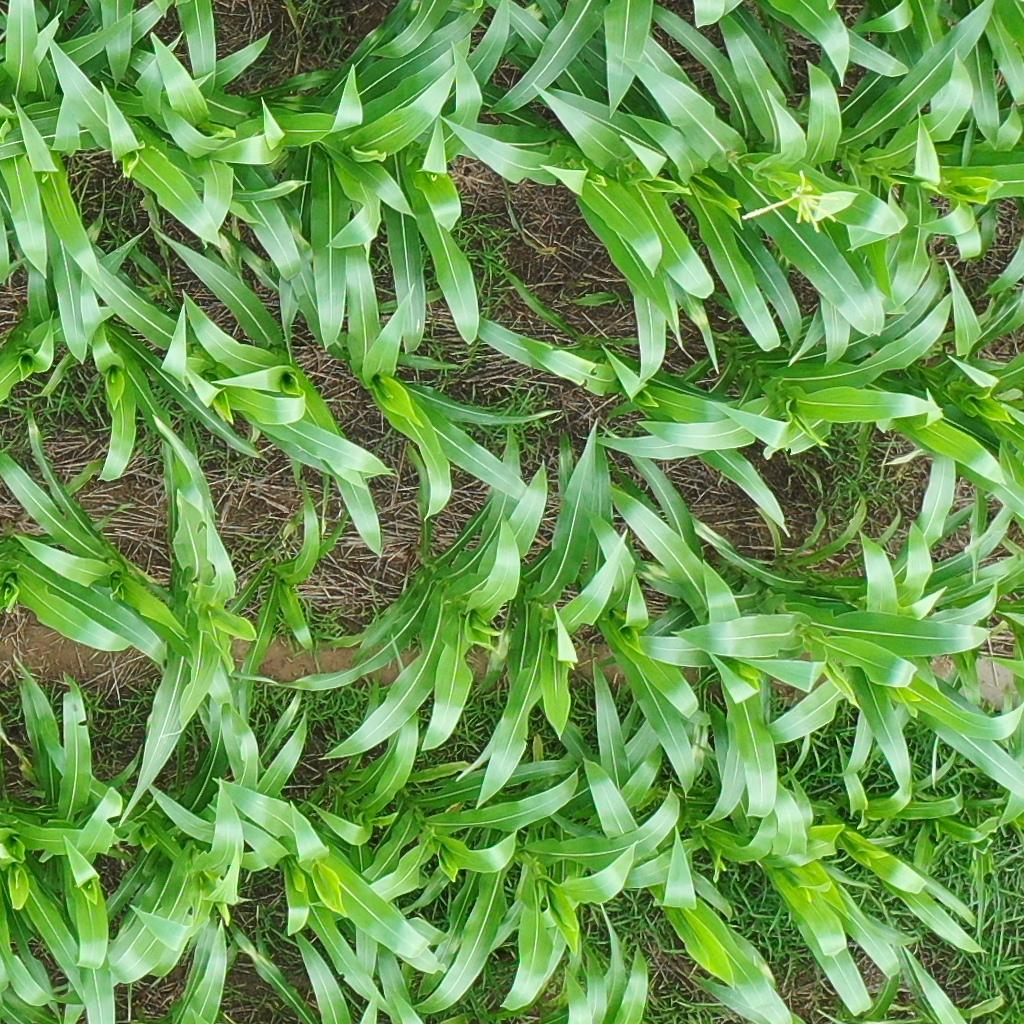Tassel: (736, 167, 833, 235)
